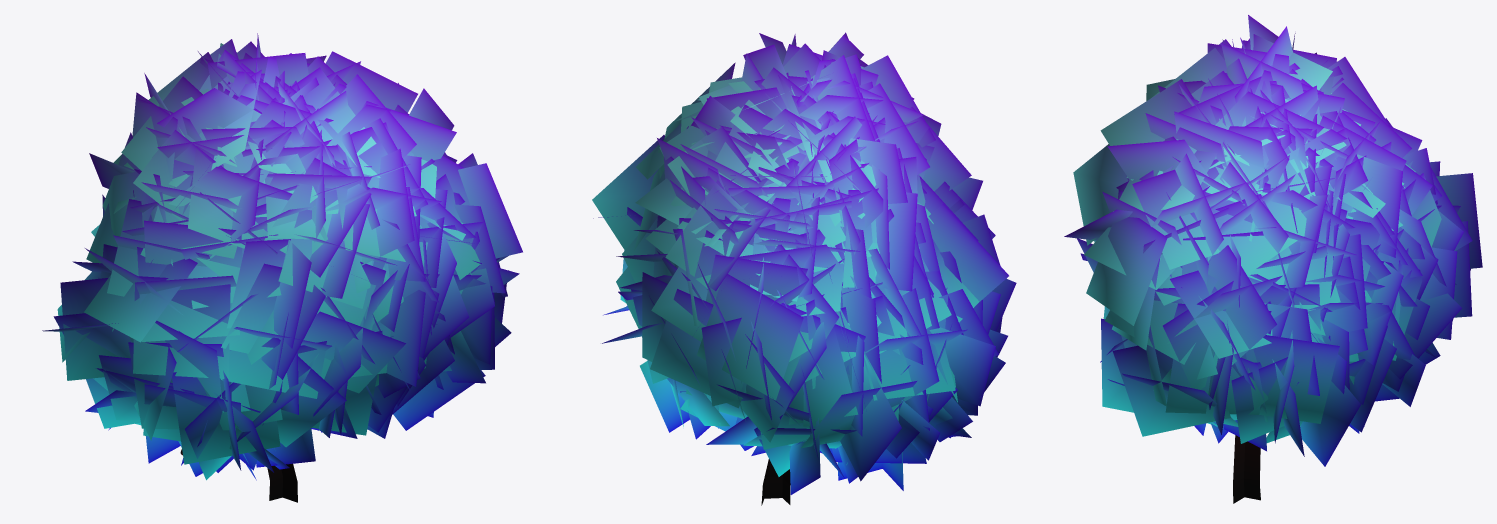
File: SM_Env_Bush_01.gltf
3 views of the same model, side by side, from view 1: azimuth 30°, elevation 25°; view 2: azimuth 150°, elevation 25°; view 3: azimuth 270°, elevation 25° (orthographic). The views are drawn at different scales.
Visible parts, largest first — view 1: SM_Env_Bush_01_LOD0; view 2: SM_Env_Bush_01_LOD0; view 3: SM_Env_Bush_01_LOD0.
Boxes of the visible parts, x1=… form: SM_Env_Bush_01_LOD0: x1=42, y1=33, x2=522, y2=502; SM_Env_Bush_01_LOD0: x1=592, y1=32, x2=1016, y2=505; SM_Env_Bush_01_LOD0: x1=1064, y1=15, x2=1482, y2=503.
Bounding box in the file's own units: 2.68 × 2.88 × 2.44.
